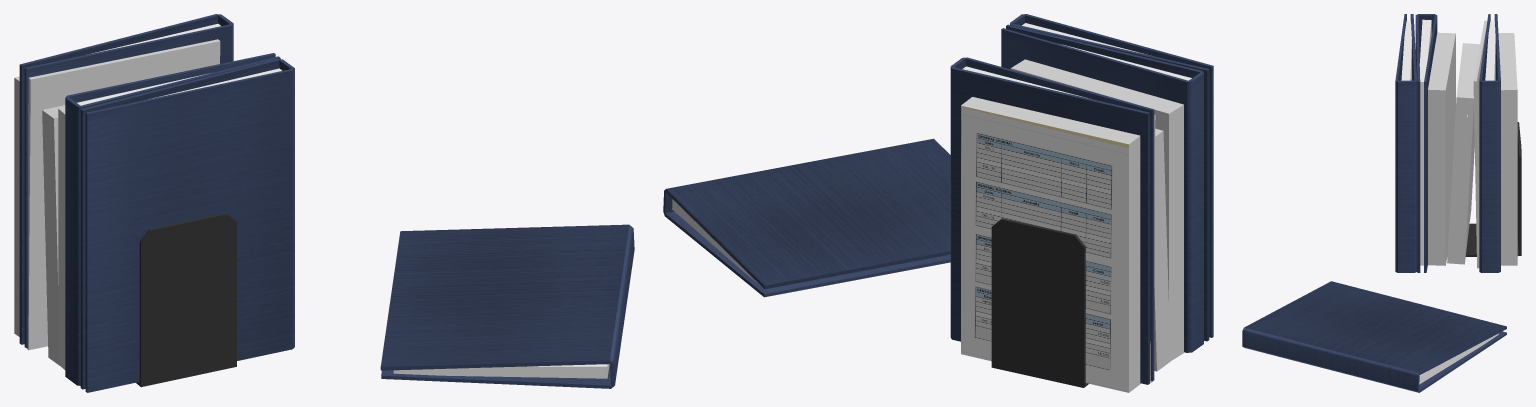
Rendered from books_and_ files.fbx.
3 renders of one model, left to right at view 1: azimuth 30°, elevation 25°; view 2: azimuth 150°, elevation 25°; view 3: azimuth 270°, elevation 25°, orthographic. The views are drawn at different scales.
Parts seen in each view (by area): view 1: pCube236, pCube254, pCube244, pCube240, pCube253, pCube252, pCube239, pCube238, pCube243; view 2: pCube243, pCube254, pCube242, pCube253, pCube252, pCube238, pCube236, pCube239; view 3: pCube254, pCube238, pCube236, pCube253, pCube239, pCube243, pCube252, pCube240, pCube242.
Boxes of the visible parts, bbox=[...] form: pCube236: bbox=[80, 58, 294, 392]; pCube254: bbox=[380, 224, 634, 388]; pCube244: bbox=[136, 213, 236, 387]; pCube240: bbox=[26, 39, 220, 350]; pCube253: bbox=[19, 14, 233, 347]; pCube252: bbox=[65, 53, 280, 385]; pCube239: bbox=[42, 105, 65, 365]; pCube238: bbox=[58, 107, 65, 369]; pCube243: bbox=[14, 76, 19, 336]; pCube243: bbox=[961, 97, 1140, 392]; pCube254: bbox=[663, 138, 950, 297]; pCube242: bbox=[991, 218, 1088, 387]; pCube253: bbox=[950, 57, 1154, 384]; pCube252: bbox=[1001, 24, 1203, 352]; pCube238: bbox=[1010, 59, 1183, 361]; pCube236: bbox=[1010, 14, 1213, 341]; pCube239: bbox=[1154, 128, 1169, 371]; pCube254: bbox=[1242, 281, 1506, 392]; pCube238: bbox=[1428, 32, 1455, 265]; pCube236: bbox=[1395, 14, 1417, 272]; pCube253: bbox=[1479, 14, 1500, 272]; pCube239: bbox=[1447, 43, 1479, 264]; pCube243: bbox=[1498, 33, 1517, 265]; pCube252: bbox=[1415, 14, 1437, 272]; pCube240: bbox=[1473, 20, 1487, 268]; pCube242: bbox=[1465, 122, 1521, 256].
Size of the model in its own units: 1.18 by 0.5827 by 0.7467.
